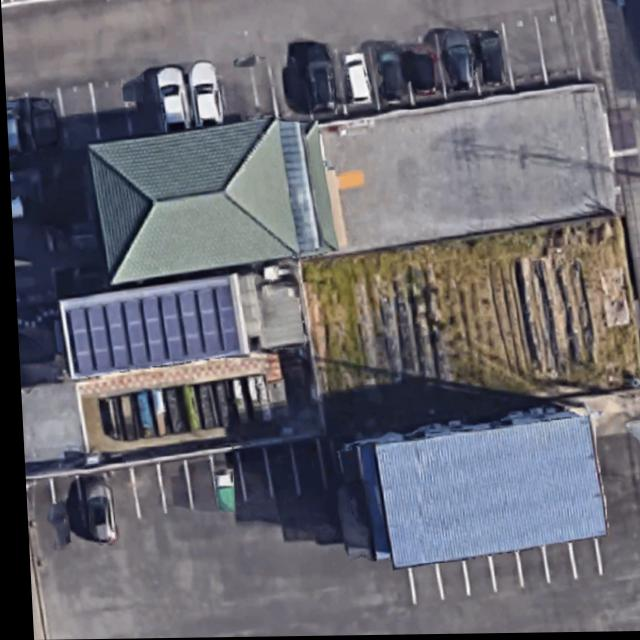Batiment: (86, 120, 316, 285), (370, 418, 599, 569), (57, 278, 238, 378)
